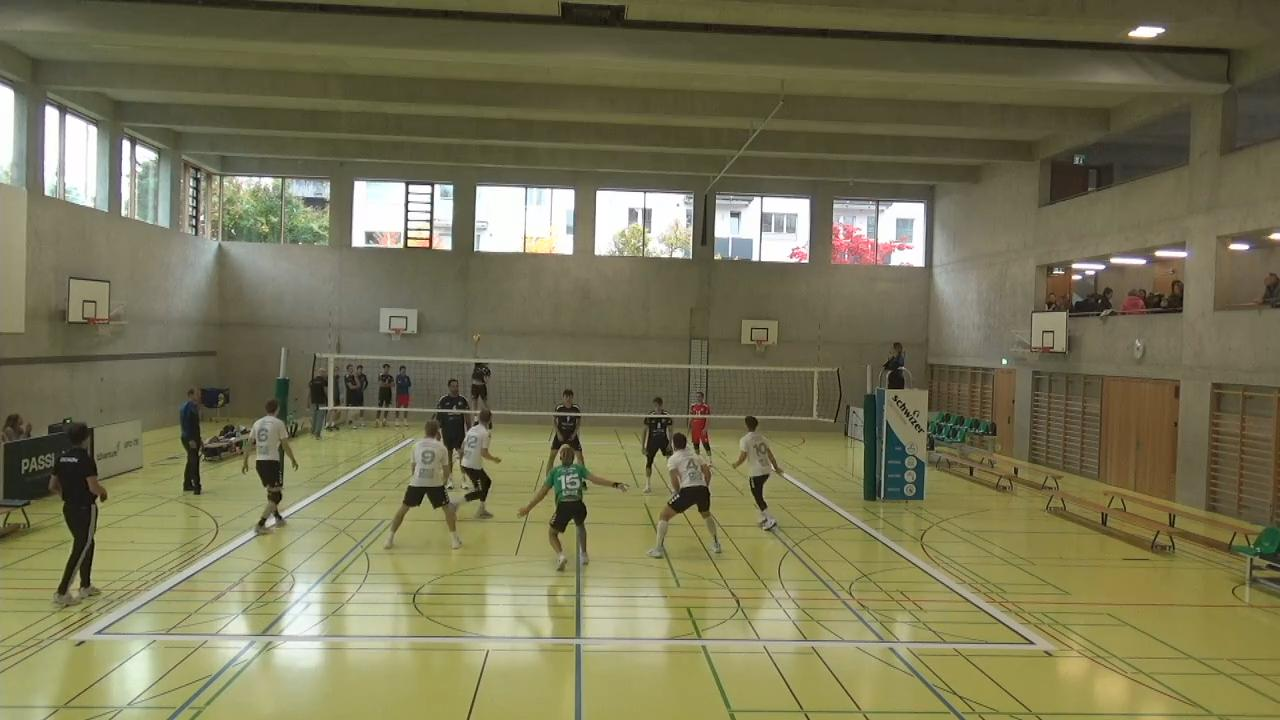Player: (512, 438, 627, 572), (384, 422, 464, 550), (650, 430, 721, 559), (249, 398, 298, 534), (732, 416, 784, 531), (456, 406, 504, 521), (640, 395, 676, 490), (434, 379, 467, 471), (549, 389, 583, 471), (688, 391, 712, 461)
Serve: (470, 338, 490, 416)
ball: (471, 329, 483, 345)
